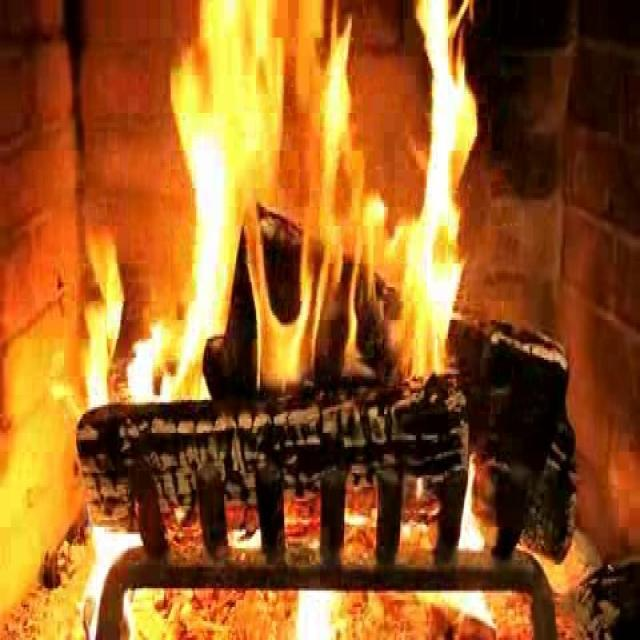Fire: (146, 0, 470, 412)
